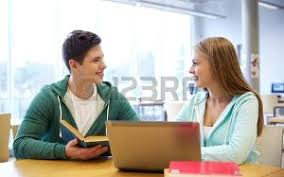person: (27, 33, 136, 124), (174, 37, 254, 131)
